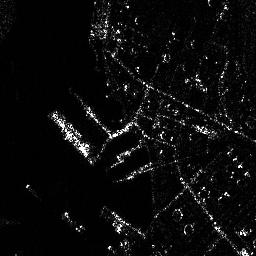ship: (55, 111, 82, 138)
